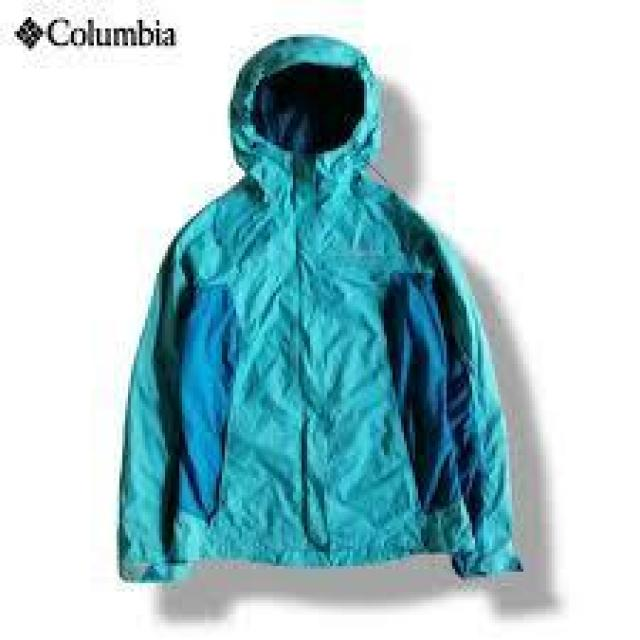sweater: (117, 36, 526, 582)
